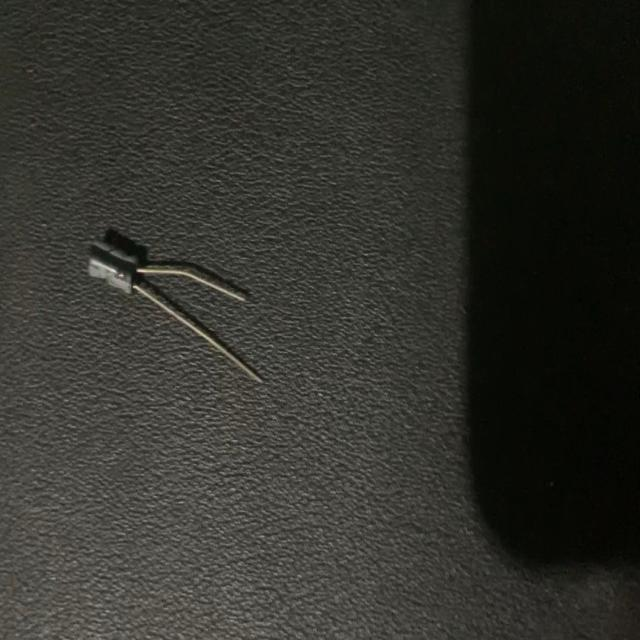capacitor: (85, 230, 266, 392)
